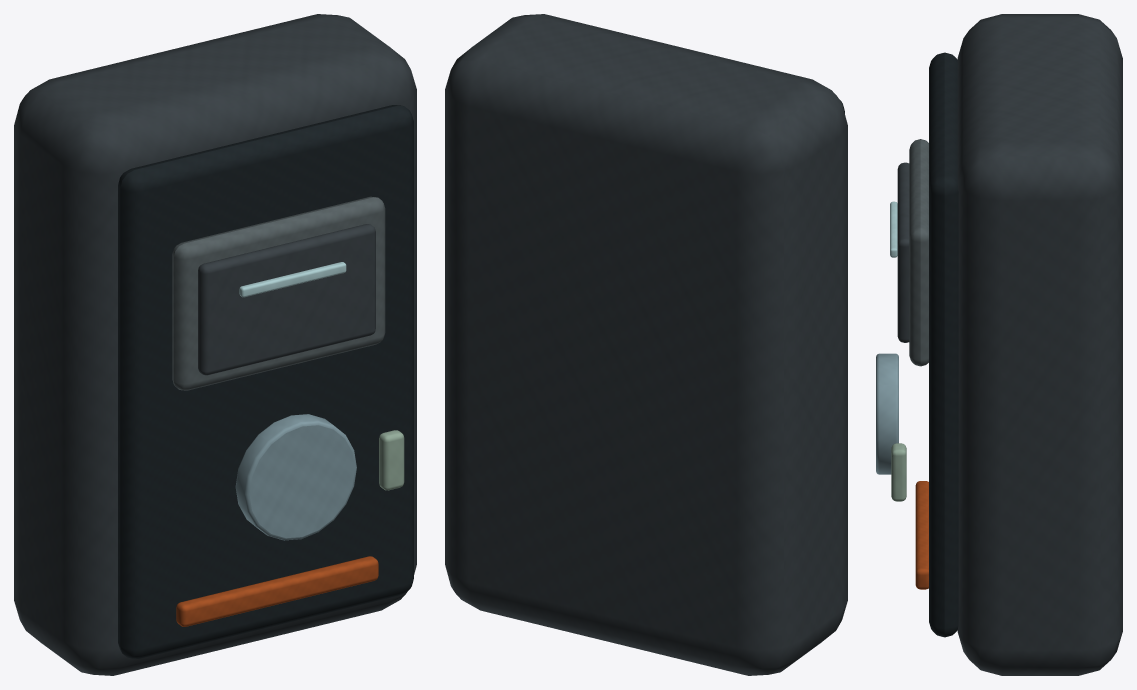
Rendered from AccessReader.fbx.
3 views of the same model, side by side, from view 1: azimuth 30°, elevation 25°; view 2: azimuth 150°, elevation 25°; view 3: azimuth 270°, elevation 25° (orthographic). The views are drawn at different scales.
Visible parts, largest first — view 1: AccessReader_Mesh; view 2: AccessReader_Mesh; view 3: AccessReader_Mesh.
Part boxes in pixels (x1=…): AccessReader_Mesh: x1=14, y1=14, x2=416, y2=675; AccessReader_Mesh: x1=445, y1=14, x2=847, y2=675; AccessReader_Mesh: x1=876, y1=14, x2=1122, y2=675.
Bounding box in the file's own units: 30 × 46 × 19.4.
